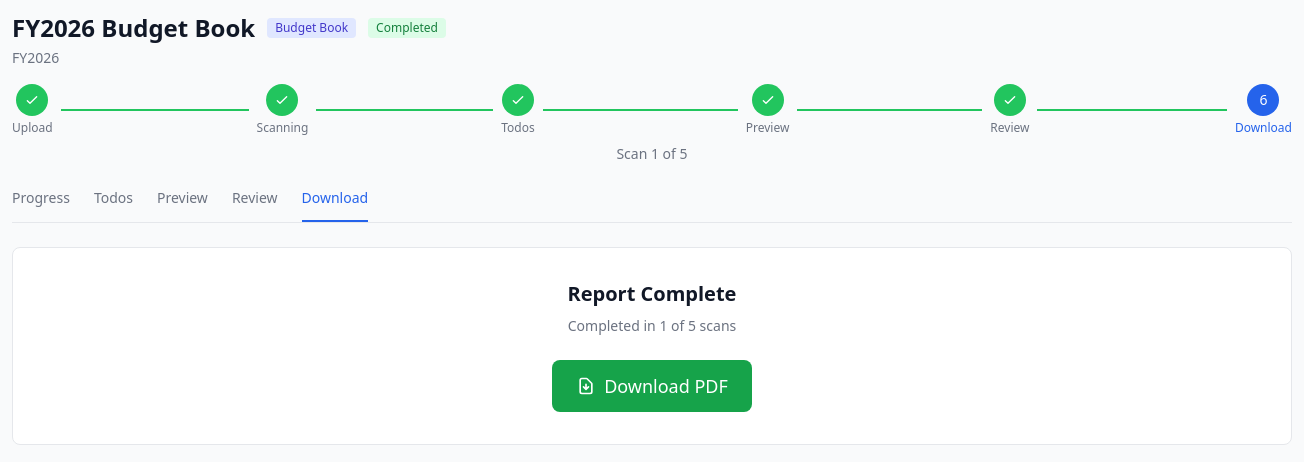
Test case: ReportDetailPage › shows 'No sections' in Preview tab when empty
Click the button "Preview": (182, 205) [157,188,208,222]
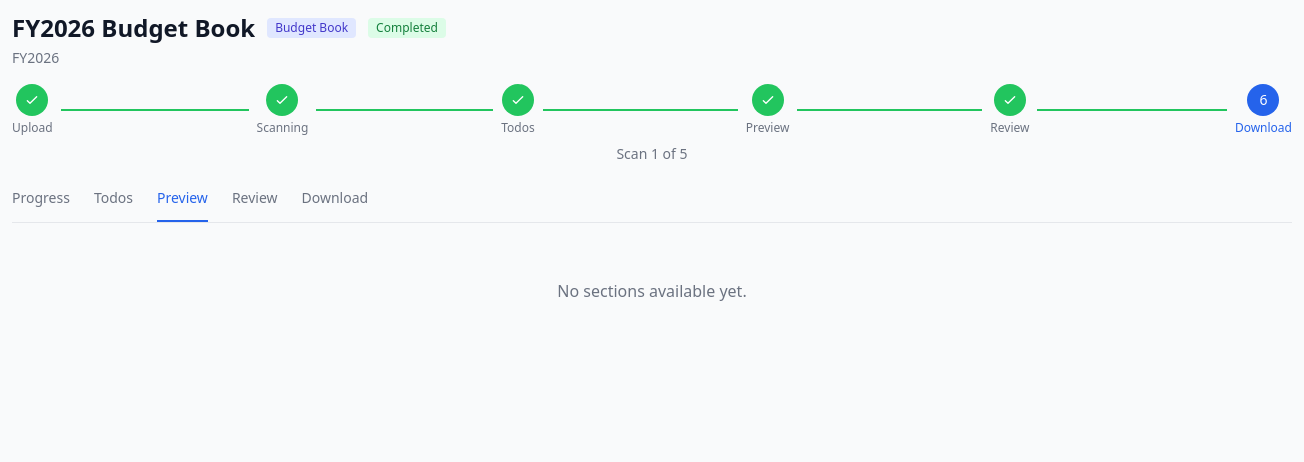
Now the text "No sections available yet." is shown, box [557,280,747,302]
